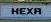A: (34, 7, 41, 15)
E: (19, 7, 26, 15)
H: (11, 7, 19, 15)
X: (26, 7, 34, 15)
